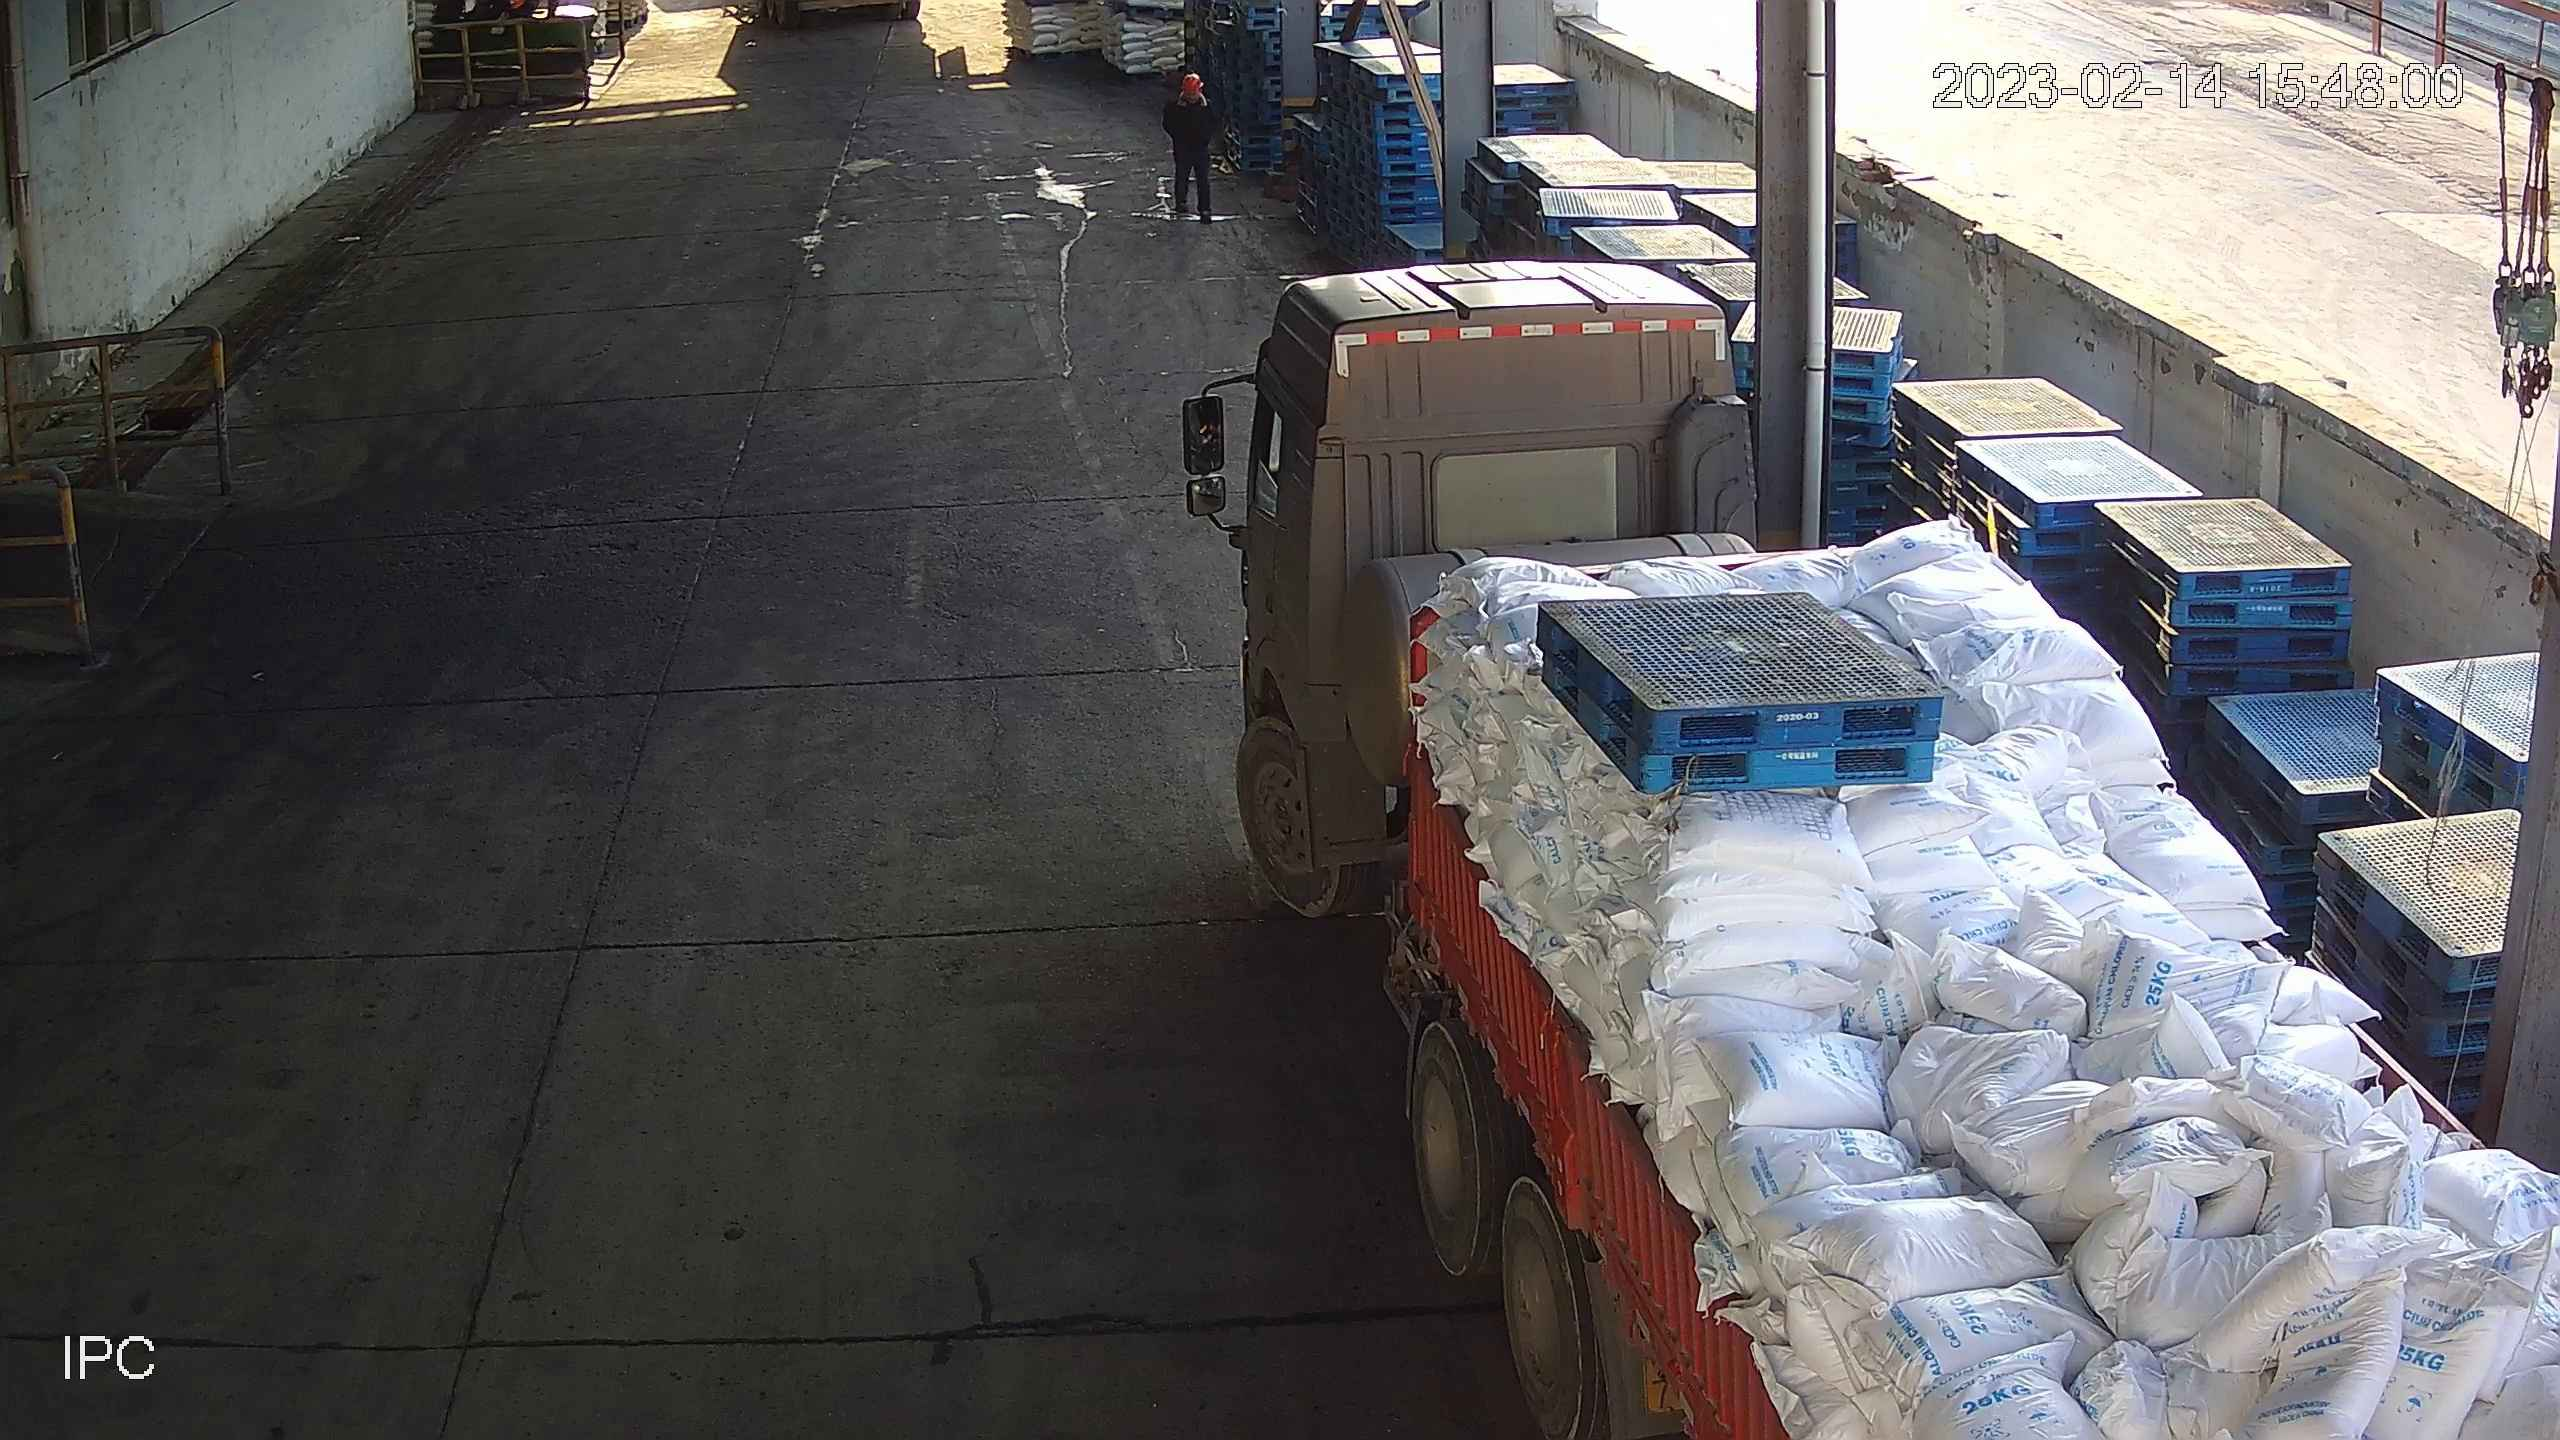head: (1168, 71, 1212, 121)
helmet: (1181, 74, 1203, 94)
people: (1163, 69, 1217, 226)
truck: (1169, 251, 2560, 1436)
